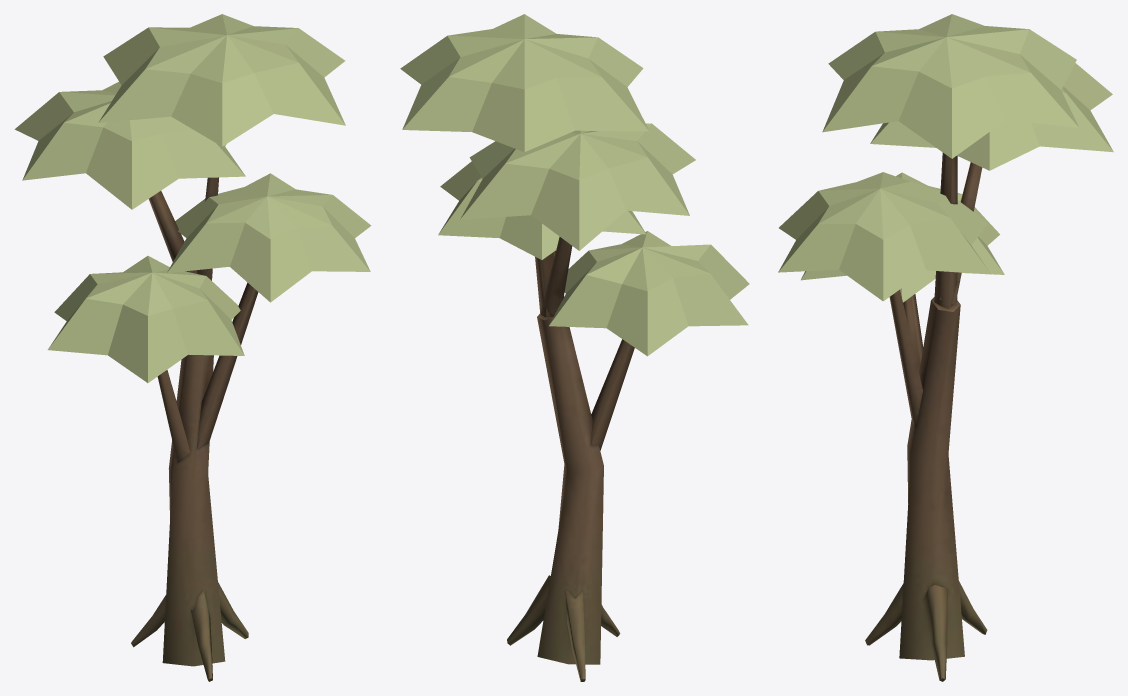
File: arv_acacia_6.glb
The picture shows the model from 3 angles, left to right: view 1: azimuth 30°, elevation 25°; view 2: azimuth 150°, elevation 25°; view 3: azimuth 270°, elevation 25°; orthographic projection. The views are drawn at different scales.
Parts seen in each view (by area): view 1: arv_acacia_6_corpo; view 2: arv_acacia_6_corpo; view 3: arv_acacia_6_corpo.
Part boxes in pixels (x1,y1,x2,y2): arv_acacia_6_corpo: [14, 14, 371, 681]; arv_acacia_6_corpo: [400, 14, 749, 681]; arv_acacia_6_corpo: [778, 14, 1113, 681].
Size of the model in its own units: 0.9516 by 1.72 by 0.8197.
2 materials, 1 textured.
